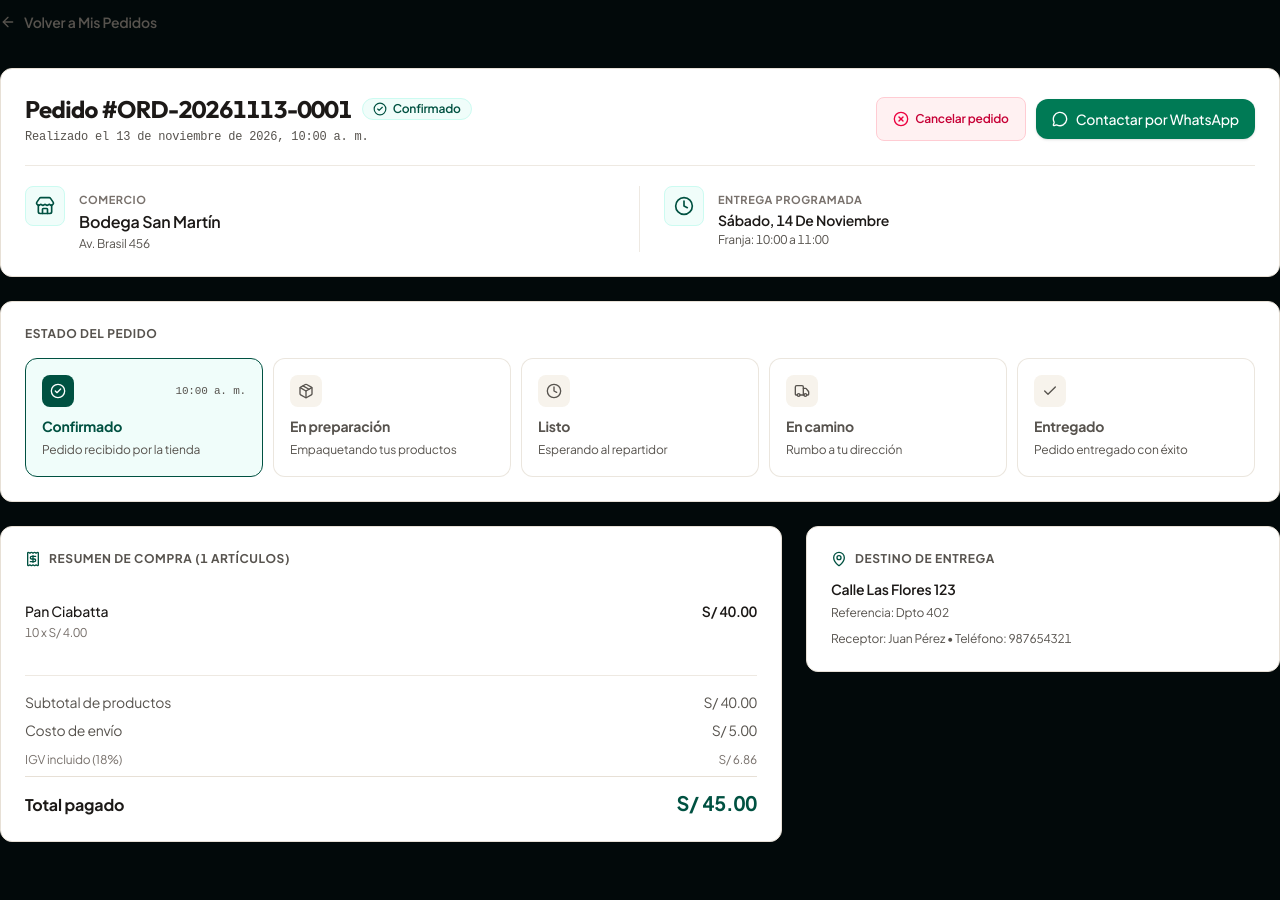
Test: OrderDetailView Component › pedido CONFIRMED: shows "Cancelar pedido" button and opens confirmation modal
The image size is (1280, 900).
Click the button "Cancelar pedido" at (951,119), box [876,97,1026,141]
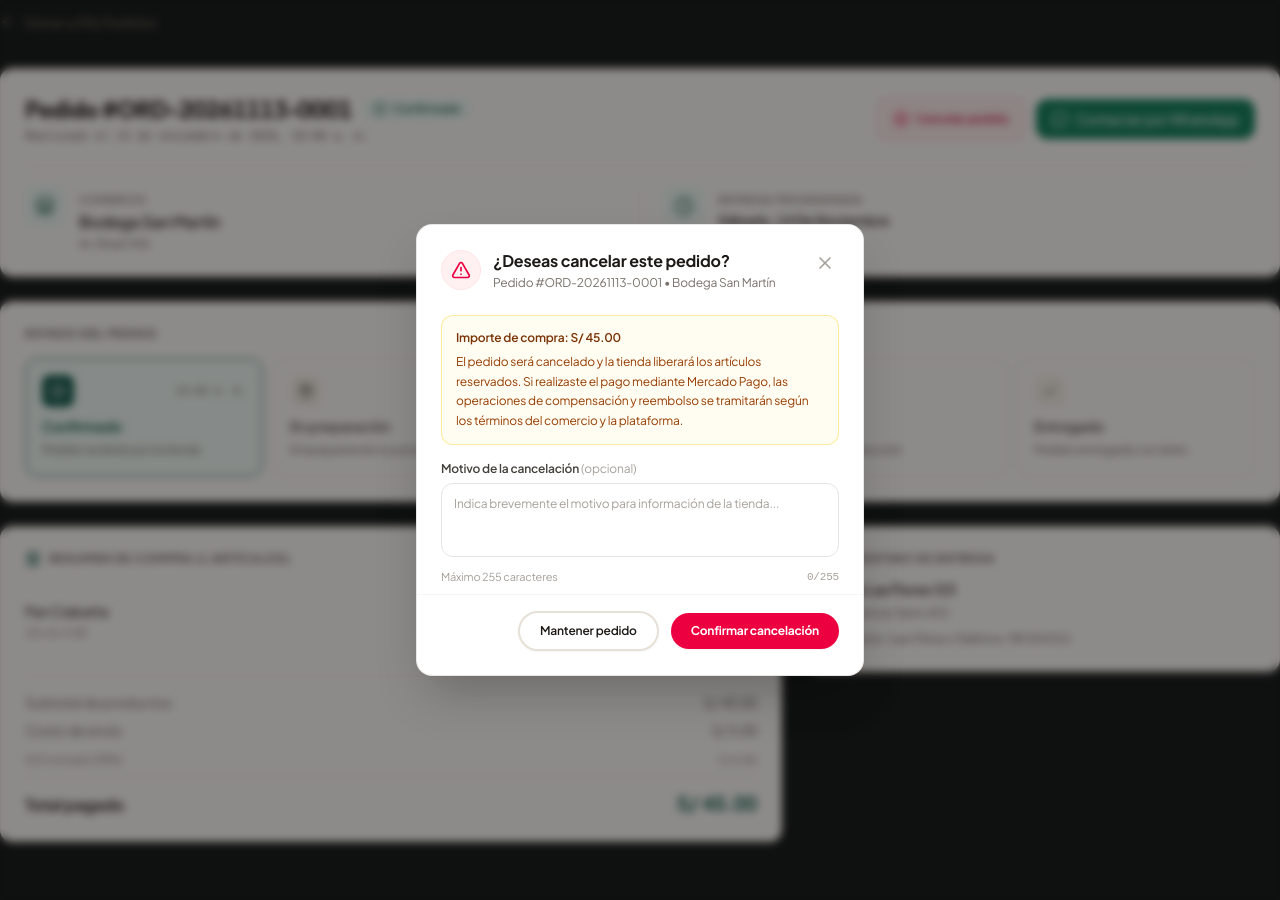
Check: the dialog is shown
Check: the heading "¿Deseas cancelar este pedido?" is shown, box [493,250,730,271]
